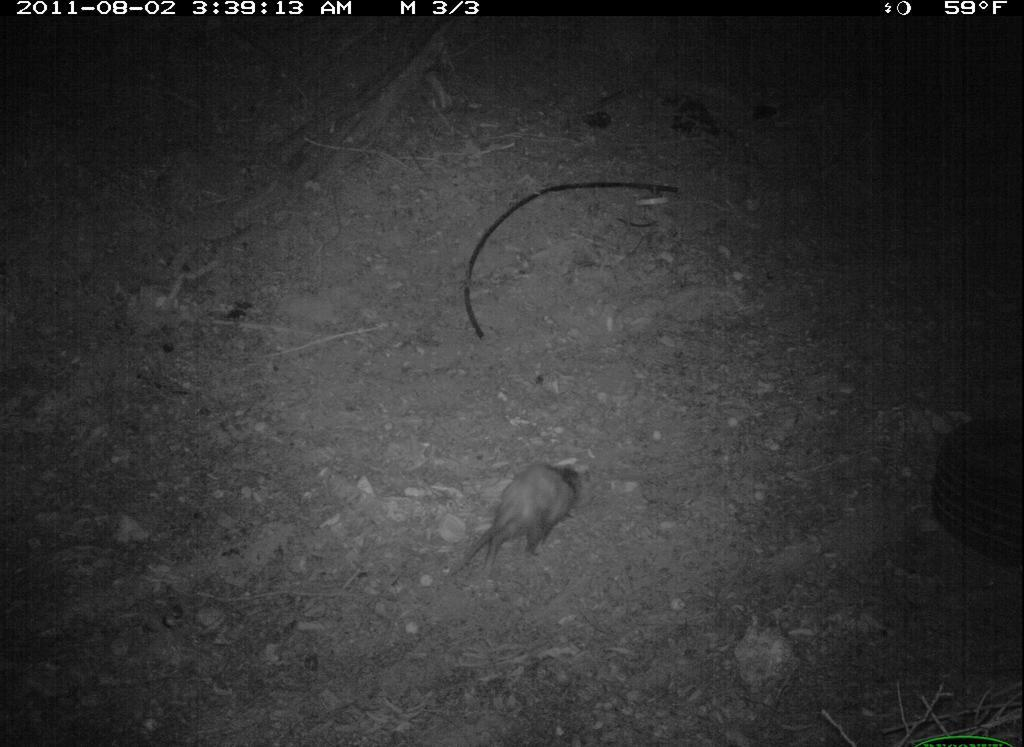opossum: (440, 454, 596, 582)
